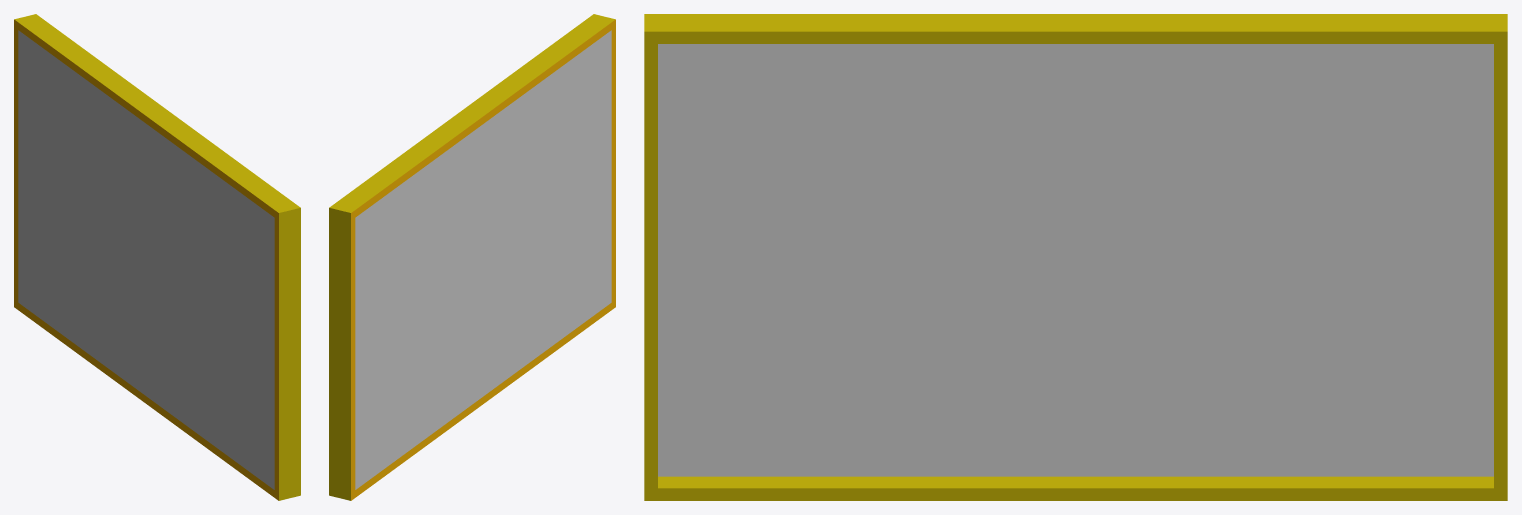
The model's file is window_5x3.dae.
3 renders of one model, left to right at view 1: azimuth 30°, elevation 25°; view 2: azimuth 150°, elevation 25°; view 3: azimuth 270°, elevation 25°, orthographic. The views are drawn at different scales.
Visible parts, largest first — view 1: Cube; view 2: Cube; view 3: Cube.
Part boxes in pixels (x1,y1,x2,y2): Cube: (14, 14, 300, 500); Cube: (329, 14, 615, 500); Cube: (644, 14, 1507, 500).
Size of the model in its own units: 0.06 by 1.25 by 0.75.
